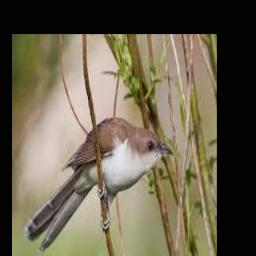Cuckoo: (23, 117, 173, 253)
